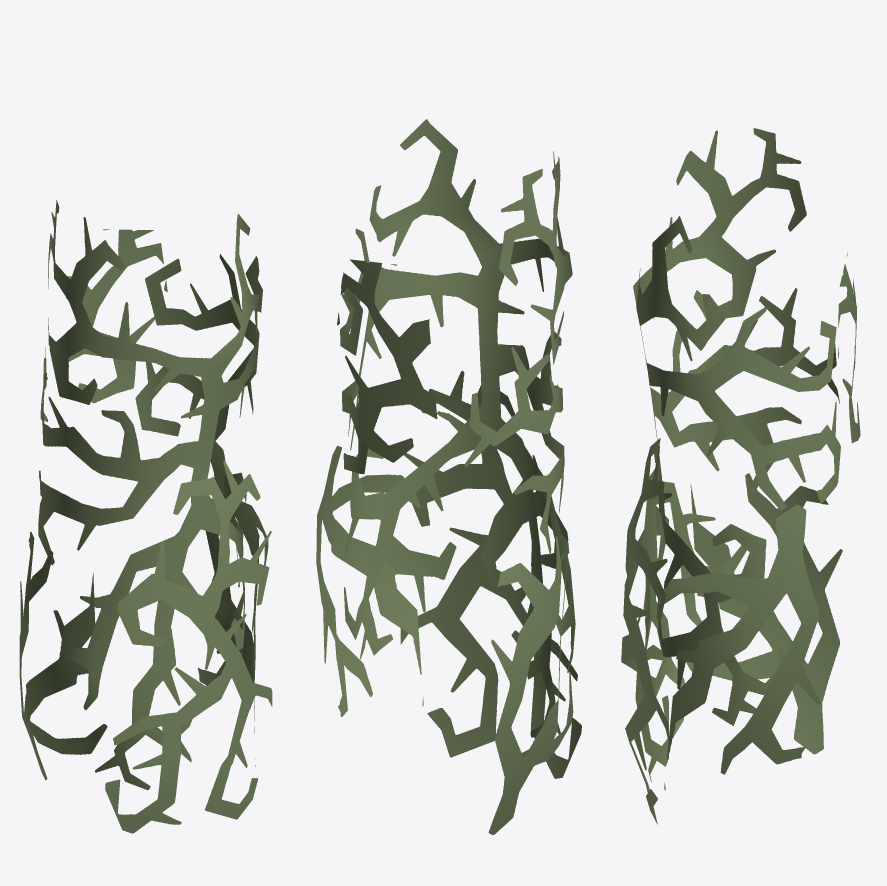
The model's file is crypt_vine_pillar.gltf.
3 renders of one model, left to right at view 1: azimuth 30°, elevation 25°; view 2: azimuth 150°, elevation 25°; view 3: azimuth 270°, elevation 25°, orthographic. The views are drawn at different scales.
Visible parts, largest first — view 1: crypt_vine_pillar; view 2: crypt_vine_pillar; view 3: crypt_vine_pillar.
Boxes of the visible parts, x1,y1,x2,y2 form: crypt_vine_pillar: (19,200,272,833); crypt_vine_pillar: (316,119,581,834); crypt_vine_pillar: (621,128,860,824).
Size of the model in its own units: 0.6644 by 2.24 by 0.6302.
1 material, 1 textured.
